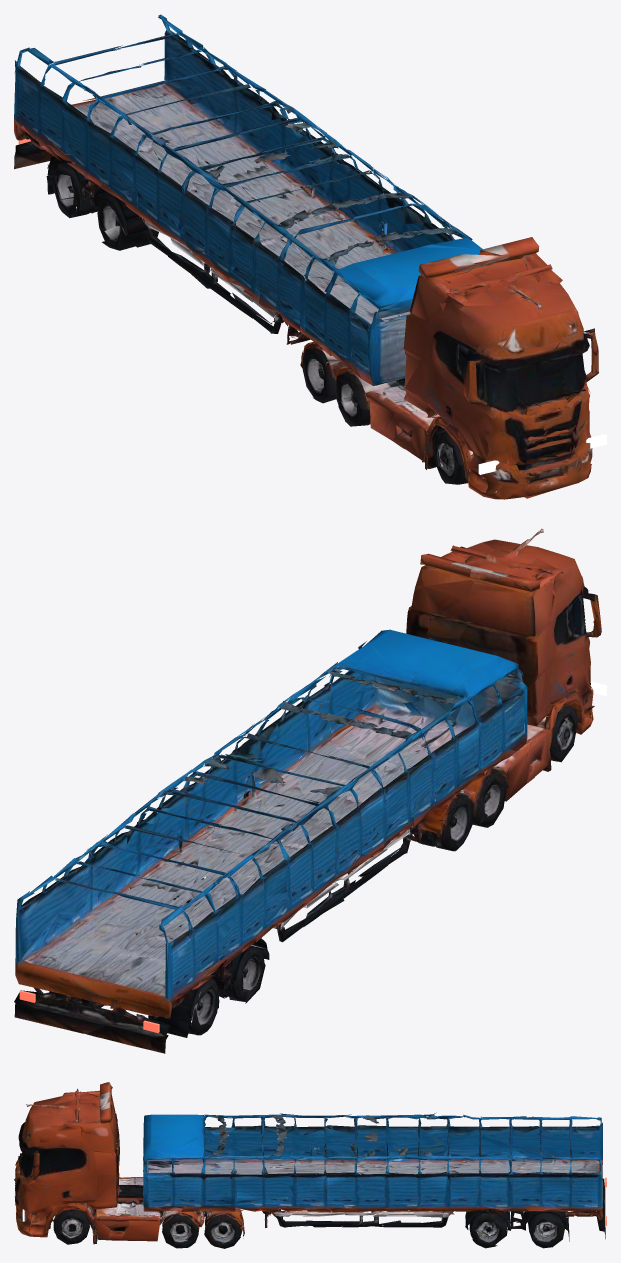
Rendered from mats-flat.glb.
The picture shows the model from 3 angles, top to bottom: view 1: azimuth 30°, elevation 25°; view 2: azimuth 150°, elevation 25°; view 3: azimuth 270°, elevation 25°; orthographic projection. The views are drawn at different scales.
Parts seen in each view (by area): view 1: trailer_body, cab_body, wheel_3_L, wheel_2_L, wheel_1_L, wheel_4_L, wheel_0_L; view 2: trailer_body, cab_body, wheel_2_L, wheel_1_L, wheel_3_L, wheel_4_L, wheel_0_L; view 3: trailer_body, cab_body, wheel_2_R, wheel_1_R, wheel_3_R, wheel_4_R, wheel_0_R.
Part boxes in pixels (x1,y1,x2,y2): trailer_body: [14, 14, 482, 385]; cab_body: [300, 237, 598, 499]; wheel_3_L: [93, 187, 158, 250]; wheel_2_L: [300, 341, 345, 403]; wheel_1_L: [335, 367, 396, 426]; wheel_4_L: [47, 154, 97, 218]; wheel_0_L: [425, 423, 467, 484]; trailer_body: [14, 629, 527, 1053]; cab_body: [351, 528, 601, 846]; wheel_2_L: [414, 790, 472, 851]; wheel_1_L: [462, 765, 509, 827]; wheel_3_L: [218, 945, 265, 1003]; wheel_4_L: [188, 978, 219, 1035]; wheel_0_L: [540, 700, 578, 762]; trailer_body: [143, 1112, 605, 1241]; cab_body: [14, 1082, 243, 1244]; wheel_2_R: [204, 1211, 244, 1248]; wheel_1_R: [162, 1210, 201, 1248]; wheel_3_R: [469, 1211, 511, 1248]; wheel_4_R: [528, 1211, 568, 1248]; wheel_0_R: [53, 1203, 93, 1244].
Size of the model in its own units: 3.21 by 3.82 by 16.07.
Materials: 5 (1 with a texture image).
